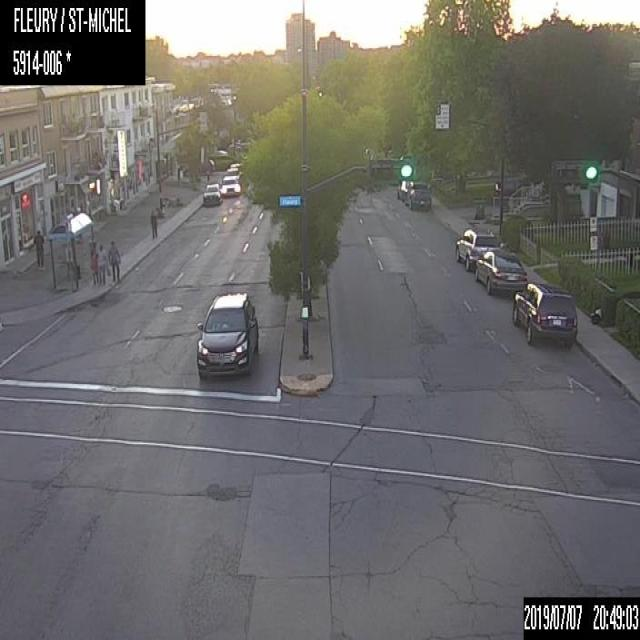pedestrian: (108, 239, 121, 283), (95, 240, 107, 285), (32, 228, 44, 267), (88, 240, 98, 284), (150, 205, 160, 239)
vehicle: (194, 289, 259, 379), (512, 280, 578, 345), (472, 246, 528, 296), (454, 226, 495, 270), (407, 185, 431, 209), (181, 158, 214, 174), (394, 178, 414, 202), (203, 182, 220, 208), (220, 180, 241, 199)
